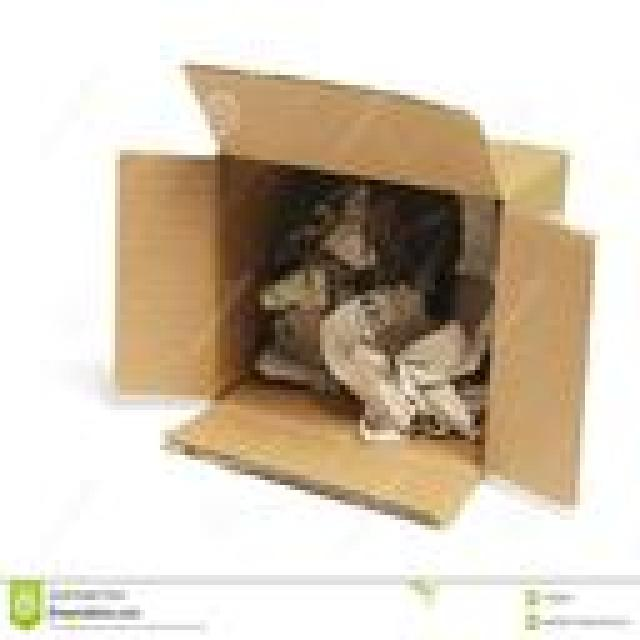cardboard: (110, 55, 590, 525)
